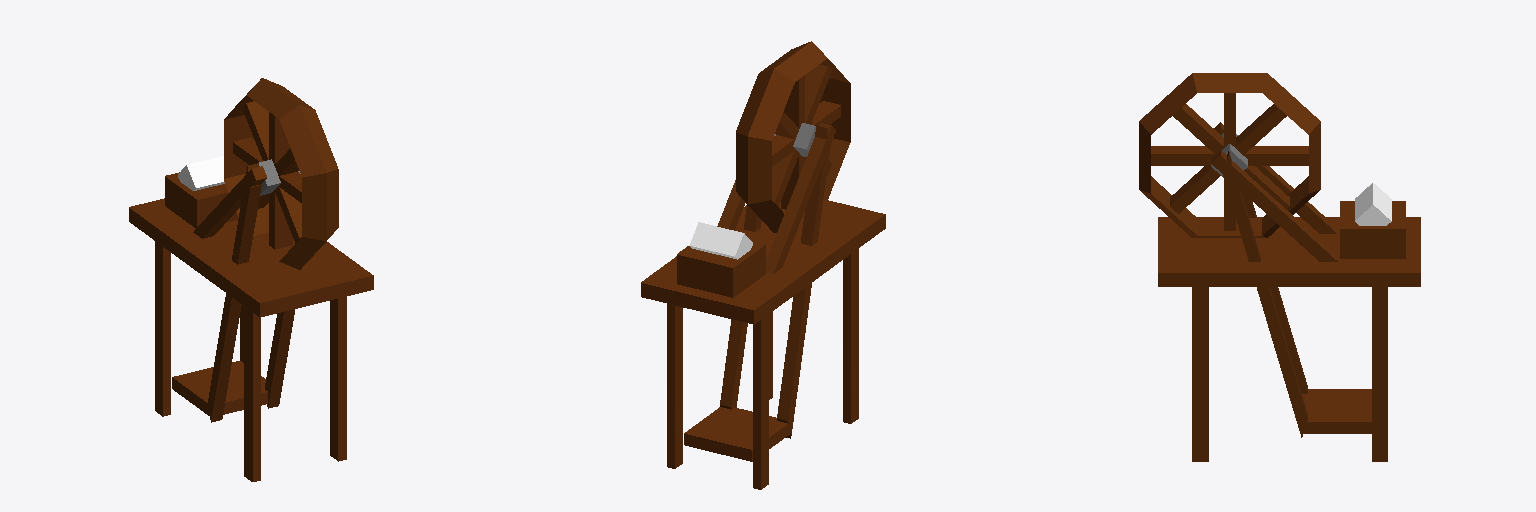
File: spinningwheel1.obj
The picture shows the model from 3 angles: view 1: azimuth 30°, elevation 25°; view 2: azimuth 150°, elevation 25°; view 3: azimuth 270°, elevation 25°; orthographic projection.
Visible parts, largest first — view 1: Object.6, Object.1, Object.14, Object.10, Object.8, Object.5, Object.2, Object.13, Object.12, Object.9, Object.3; view 2: Object.6, Object.1, Object.14, Object.8, Object.10, Object.12, Object.13, Object.4, Object.9, Object.2, Object.3, Object.11; view 3: Object.6, Object.1, Object.13, Object.10, Object.8, Object.3, Object.11, Object.5, Object.4, Object.9, Object.12, Object.14 (+1 smaller).
Boxes of the visible parts, <box> form: Object.6: <box>129,198,373,481</box>; Object.1: <box>224,78,338,269</box>; Object.14: <box>208,163,261,422</box>; Object.10: <box>172,361,267,415</box>; Object.8: <box>165,172,238,227</box>; Object.5: <box>242,101,301,243</box>; Object.2: <box>269,112,292,249</box>; Object.13: <box>265,309,294,408</box>; Object.12: <box>193,166,266,238</box>; Object.9: <box>178,156,224,190</box>; Object.3: <box>233,137,301,202</box>; Object.6: <box>641,200,885,489</box>; Object.1: <box>736,41,850,232</box>; Object.14: <box>777,126,830,438</box>; Object.8: <box>677,241,765,297</box>; Object.10: <box>684,407,791,461</box>; Object.12: <box>766,123,835,273</box>; Object.13: <box>720,205,761,409</box>; Object.4: <box>772,64,831,206</box>; Object.9: <box>689,222,752,259</box>; Object.2: <box>781,75,804,209</box>; Object.3: <box>772,101,840,166</box>; Object.11: <box>717,180,745,230</box>; Object.6: <box>1158,217,1420,461</box>; Object.1: <box>1139,73,1320,237</box>; Object.13: <box>1223,151,1307,437</box>; Object.10: <box>1301,389,1371,433</box>; Object.8: <box>1340,201,1405,258</box>; Object.3: <box>1151,146,1308,165</box>; Object.11: <box>1211,150,1337,261</box>; Object.5: <box>1170,104,1286,213</box>; Object.4: <box>1173,104,1289,209</box>; Object.9: <box>1355,183,1391,225</box>; Object.12: <box>1214,122,1337,233</box>; Object.14: <box>1241,191,1307,393</box>.
Size of the model in its own units: 0.5 by 1.54 by 1.07.